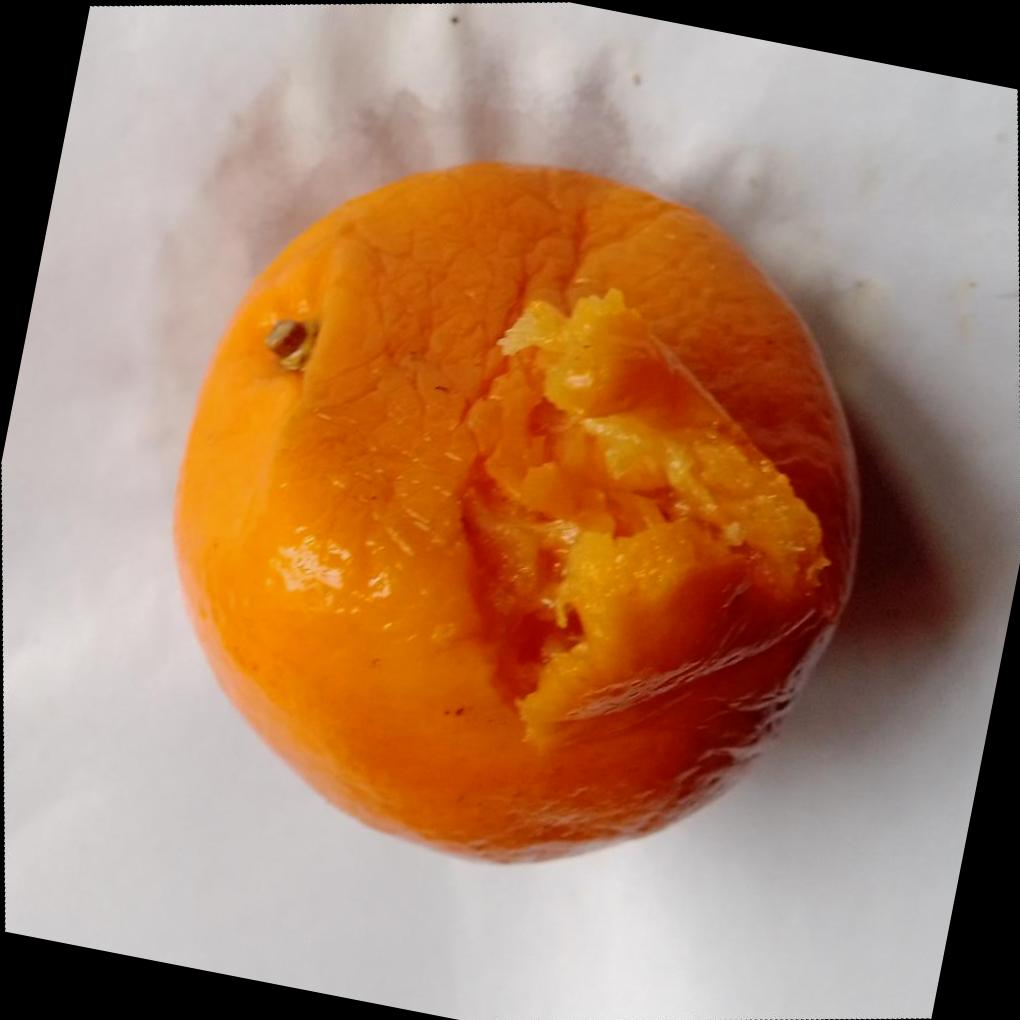FreshOrange: (166, 157, 860, 865)
